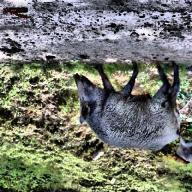boar: (66, 61, 192, 160), (179, 123, 192, 169)
